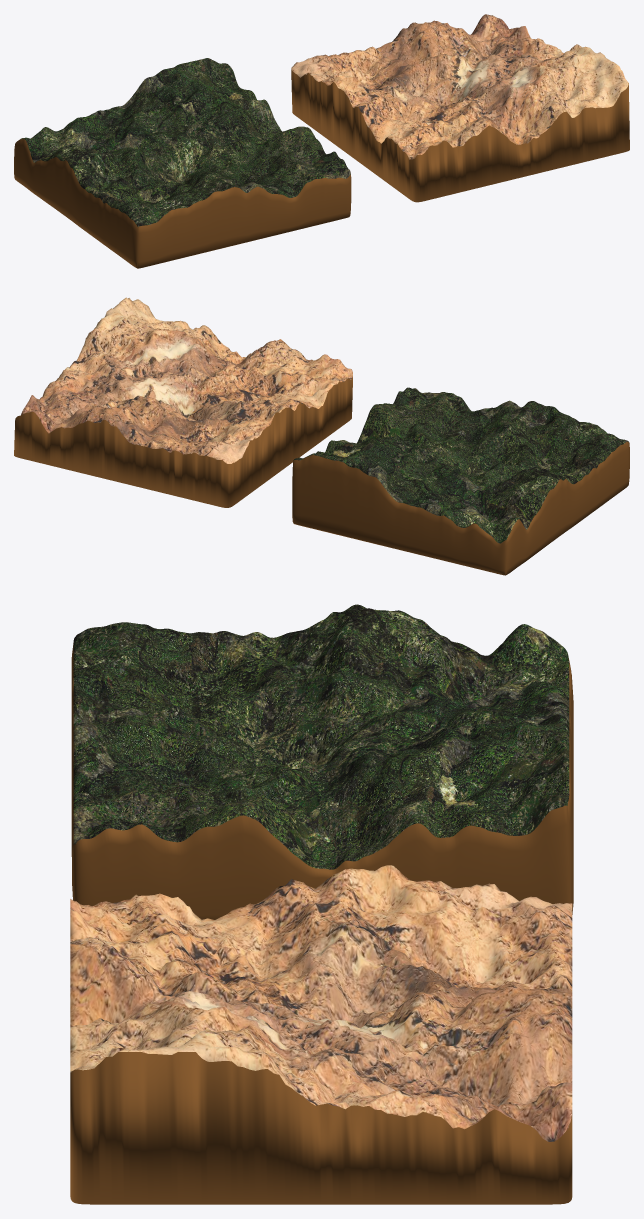
3 views of the same model, one above another, from view 1: azimuth 30°, elevation 25°; view 2: azimuth 150°, elevation 25°; view 3: azimuth 270°, elevation 25° (orthographic). The views are drawn at different scales.
Parts seen in each view (by area): view 1: GREEN TERR_0, DESERT TERR_1; view 2: DESERT TERR_1, GREEN TERR_0; view 3: DESERT TERR_1, GREEN TERR_0.
Part boxes in pixels (x1=…): GREEN TERR_0: x1=14, y1=58, x2=351, y2=268; DESERT TERR_1: x1=291, y1=14, x2=629, y2=202; DESERT TERR_1: x1=14, y1=297, x2=352, y2=507; GREEN TERR_0: x1=292, y1=387, x2=629, y2=575; DESERT TERR_1: x1=70, y1=865, x2=572, y2=1204; GREEN TERR_0: x1=71, y1=604, x2=573, y2=919.
Bounding box in the file's own units: 40.37 × 5.89 × 17.76.
